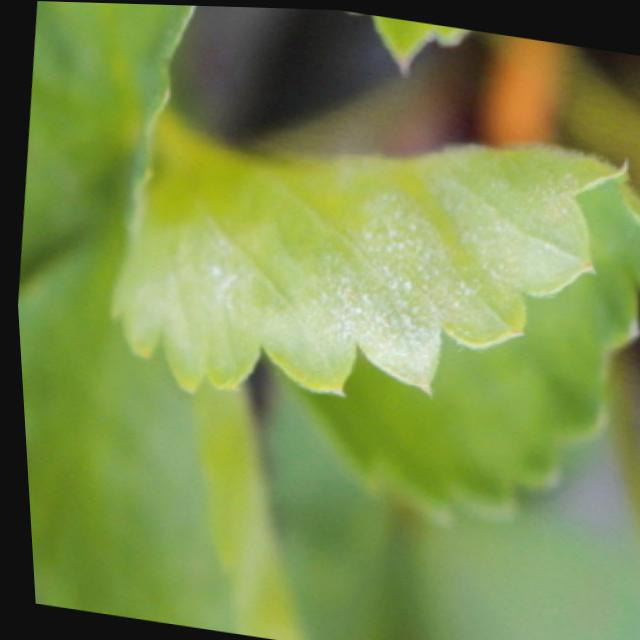Powdery Mildew Leaf: (103, 103, 640, 519)
